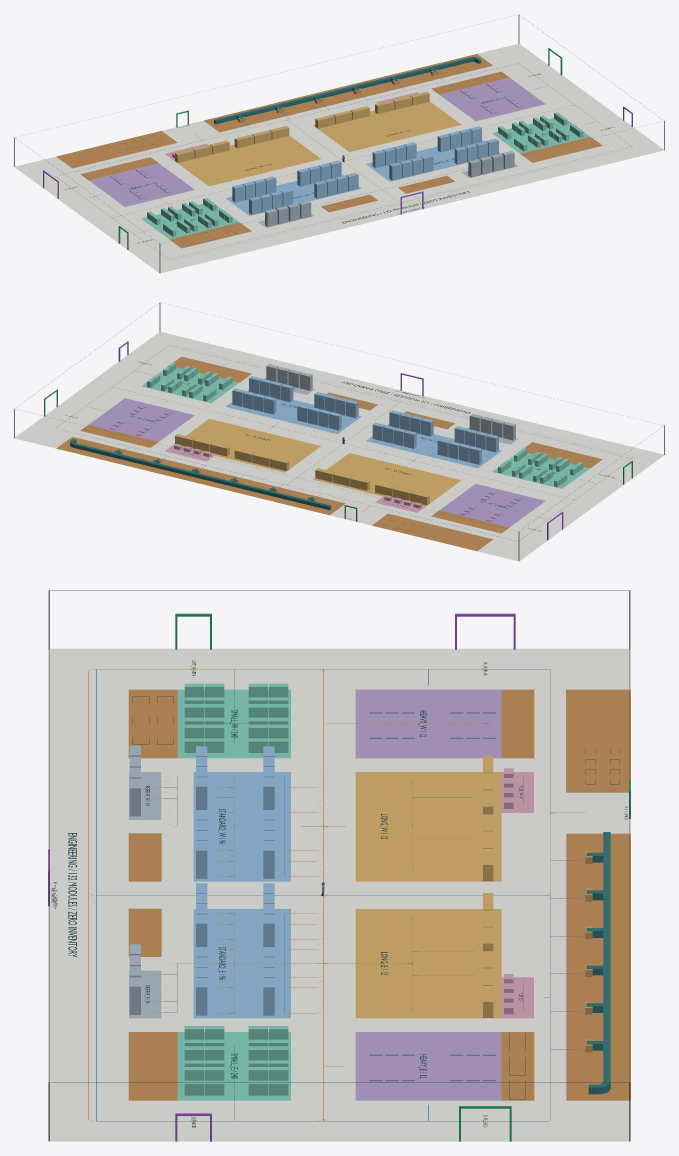
File: layout-engineering.glb
3 views of the same model, one above another, from view 1: azimuth 30°, elevation 25°; view 2: azimuth 150°, elevation 25°; view 3: azimuth 270°, elevation 25° (orthographic). The views are drawn at different scales.
Visible parts, largest first — view 1: layout-engineering__batch_05, layout-engineering__batch_172, layout-engineering__batch_171, layout-engineering__batch_170, layout-engineering__batch_174, layout-engineering__batch_175, layout-engineering__batch_03, layout-engineering__batch_00, layout-engineering__batch_04; view 2: layout-engineering__batch_05, layout-engineering__batch_172, layout-engineering__batch_171, layout-engineering__batch_170, layout-engineering__batch_175, layout-engineering__batch_174, layout-engineering__batch_03, layout-engineering__batch_169, layout-engineering__batch_04, layout-engineering__batch_00; view 3: layout-engineering__batch_05, layout-engineering__batch_172, layout-engineering__batch_171, layout-engineering__batch_170, layout-engineering__batch_175, layout-engineering__batch_174, layout-engineering__batch_147, layout-engineering__batch_03, layout-engineering__batch_146, layout-engineering__batch_06, layout-engineering__batch_173, layout-engineering__batch_04 (+2 smaller).
Boxes of the visible parts, left/top/right/bottom form: layout-engineering__batch_05: left=14, top=43, right=663, bottom=273; layout-engineering__batch_172: left=56, top=54, right=601, bottom=248; layout-engineering__batch_171: left=173, top=101, right=461, bottom=186; layout-engineering__batch_170: left=89, top=77, right=545, bottom=206; layout-engineering__batch_174: left=141, top=118, right=589, bottom=239; layout-engineering__batch_175: left=226, top=140, right=500, bottom=215; layout-engineering__batch_03: left=214, top=57, right=481, bottom=124; layout-engineering__batch_00: left=56, top=71, right=602, bottom=248; layout-engineering__batch_04: left=65, top=73, right=612, bottom=243; layout-engineering__batch_05: left=15, top=331, right=664, bottom=561; layout-engineering__batch_172: left=56, top=357, right=601, bottom=550; layout-engineering__batch_171: left=173, top=418, right=461, bottom=506; layout-engineering__batch_170: left=89, top=398, right=545, bottom=527; layout-engineering__batch_175: left=225, top=390, right=501, bottom=468; layout-engineering__batch_174: left=141, top=367, right=589, bottom=488; layout-engineering__batch_03: left=70, top=439, right=331, bottom=510; layout-engineering__batch_169: left=165, top=445, right=424, bottom=512; layout-engineering__batch_04: left=65, top=362, right=616, bottom=531; layout-engineering__batch_00: left=80, top=357, right=602, bottom=550; layout-engineering__batch_05: left=48, top=648, right=630, bottom=1141; layout-engineering__batch_172: left=129, top=689, right=630, bottom=1100; layout-engineering__batch_171: left=355, top=772, right=501, bottom=1018; layout-engineering__batch_170: left=355, top=689, right=501, bottom=1100; layout-engineering__batch_175: left=193, top=772, right=290, bottom=1018; layout-engineering__batch_174: left=177, top=689, right=290, bottom=1100; layout-engineering__batch_147: left=88, top=666, right=585, bottom=1123; layout-engineering__batch_03: left=586, top=832, right=610, bottom=1094; layout-engineering__batch_146: left=96, top=669, right=581, bottom=1121; layout-engineering__batch_06: left=48, top=590, right=630, bottom=1141; layout-engineering__batch_173: left=129, top=772, right=161, bottom=1018; layout-engineering__batch_04: left=51, top=660, right=627, bottom=1127.
Size of the model in its own units: 144 by 8 by 72.
